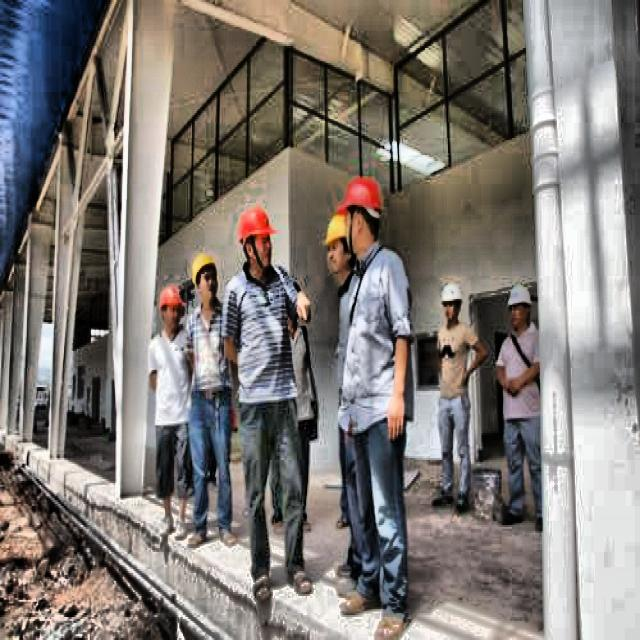helmet: (339, 172, 385, 258), (237, 203, 276, 278), (320, 203, 355, 276), (189, 247, 224, 309), (503, 284, 538, 339), (439, 278, 466, 329), (159, 280, 184, 335)
